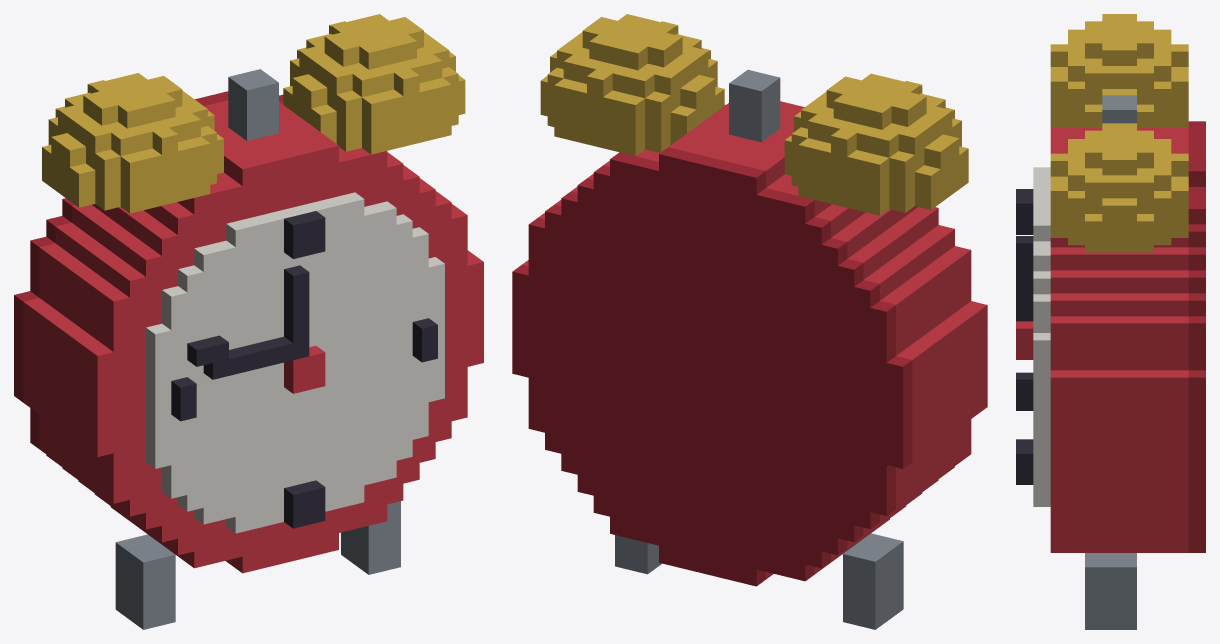
File: alarm-clock.glb
The picture shows the model from 3 angles, left to right: view 1: azimuth 30°, elevation 25°; view 2: azimuth 150°, elevation 25°; view 3: azimuth 270°, elevation 25°; orthographic projection. The views are drawn at different scales.
Parts seen in each view (by area): view 1: prop; view 2: prop; view 3: prop.
Part boxes in pixels (x1,y1,x2,y2): prop: [14, 14, 483, 629]; prop: [512, 14, 987, 629]; prop: [1016, 14, 1205, 629].
Size of the model in its own units: 12.39 by 16 by 5.68.
